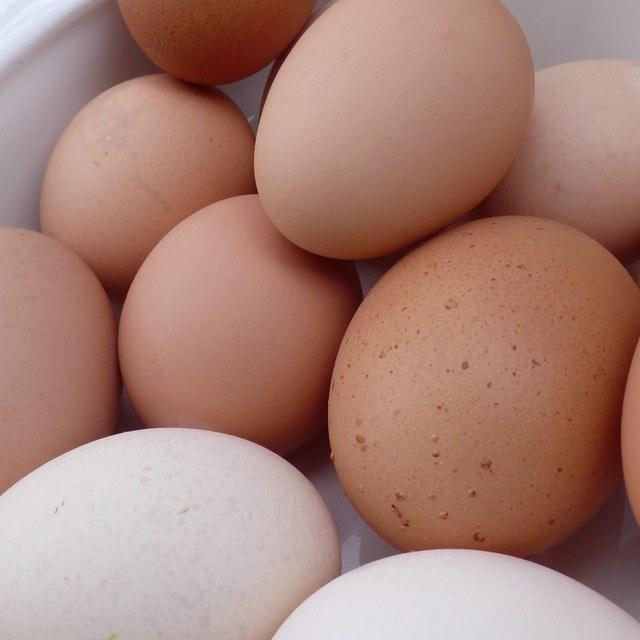egg: (326, 213, 640, 557), (0, 425, 342, 640), (253, 0, 535, 260), (116, 193, 363, 456), (38, 72, 255, 297), (0, 225, 119, 555), (247, 547, 640, 640), (477, 57, 640, 259), (109, 0, 331, 85), (620, 247, 640, 582)
